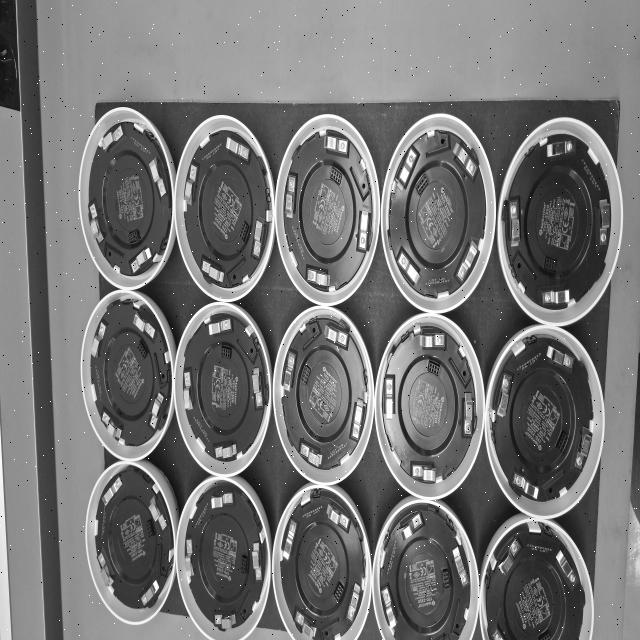yayli: (453, 143, 478, 178), (457, 241, 478, 282), (398, 147, 417, 189), (574, 427, 592, 471), (397, 251, 420, 285), (499, 538, 520, 575), (512, 472, 539, 500), (556, 551, 576, 586), (381, 587, 397, 630), (149, 157, 166, 197), (453, 546, 469, 587), (400, 513, 424, 540), (497, 374, 512, 417), (324, 324, 349, 349), (547, 346, 574, 369), (327, 504, 350, 531), (149, 496, 167, 530), (357, 205, 370, 252), (102, 125, 124, 152), (347, 583, 362, 622), (102, 477, 122, 506), (295, 611, 316, 638), (226, 137, 249, 161), (102, 411, 121, 440), (300, 442, 322, 467), (133, 313, 155, 338), (283, 520, 297, 559), (351, 399, 364, 440), (91, 322, 106, 357), (98, 552, 113, 587), (184, 165, 197, 205), (252, 218, 265, 258), (283, 351, 296, 391), (150, 392, 164, 429), (599, 199, 610, 246), (90, 204, 103, 243), (202, 259, 224, 282), (307, 268, 330, 290), (412, 463, 437, 483), (509, 201, 520, 246), (285, 175, 296, 218), (547, 140, 574, 157), (324, 135, 348, 154), (252, 368, 263, 409), (141, 580, 159, 605), (542, 289, 570, 305), (463, 392, 473, 436), (385, 377, 395, 420), (419, 333, 445, 349), (208, 318, 232, 335), (183, 371, 193, 410), (252, 542, 262, 581), (211, 492, 234, 508), (215, 443, 236, 460), (185, 539, 194, 577), (215, 614, 235, 629)
